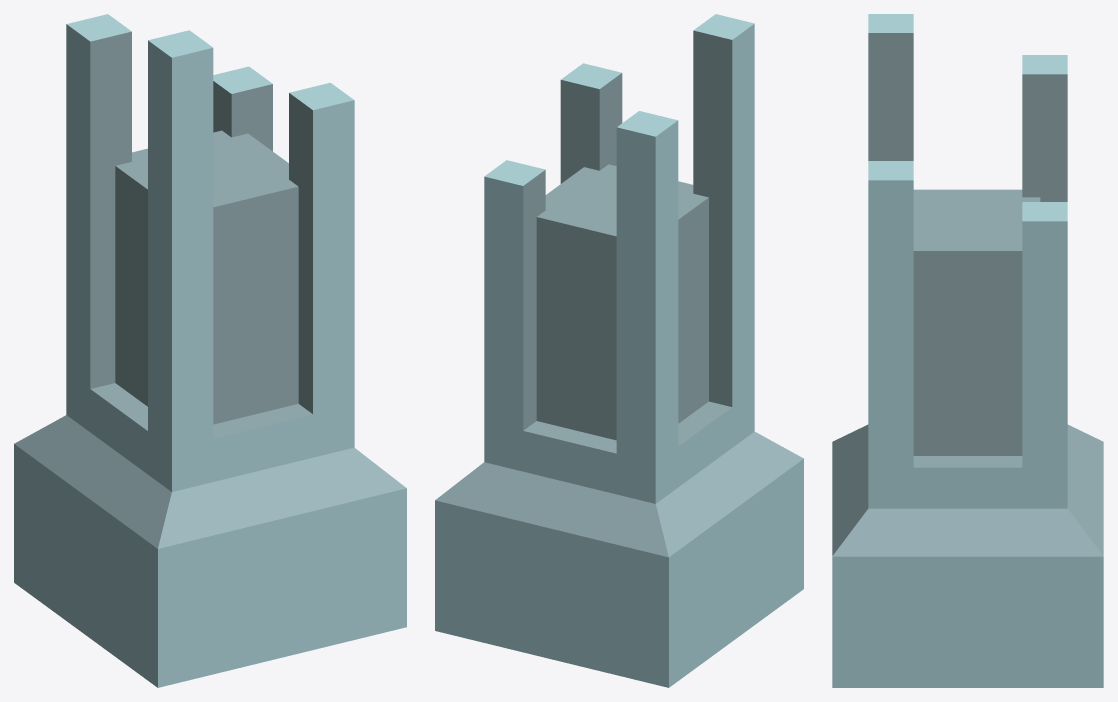
File: statue_columnDamaged.dae
3 views of the same model, side by side, from view 1: azimuth 30°, elevation 25°; view 2: azimuth 150°, elevation 25°; view 3: azimuth 270°, elevation 25° (orthographic). The views are drawn at different scales.
Visible parts, largest first — view 1: statue_columnDamaged; view 2: statue_columnDamaged; view 3: statue_columnDamaged.
Boxes of the visible parts, x1=… form: statue_columnDamaged: x1=14, y1=14, x2=406, y2=687; statue_columnDamaged: x1=435, y1=14, x2=803, y2=687; statue_columnDamaged: x1=832, y1=14, x2=1103, y2=687.
Bounding box in the file's own units: 0.3 × 0.7 × 0.3.
